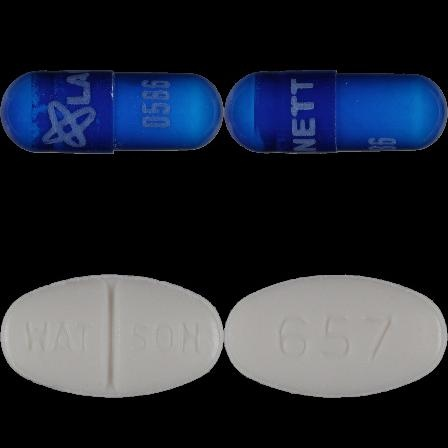64725-0586: (0, 0, 224, 224)
